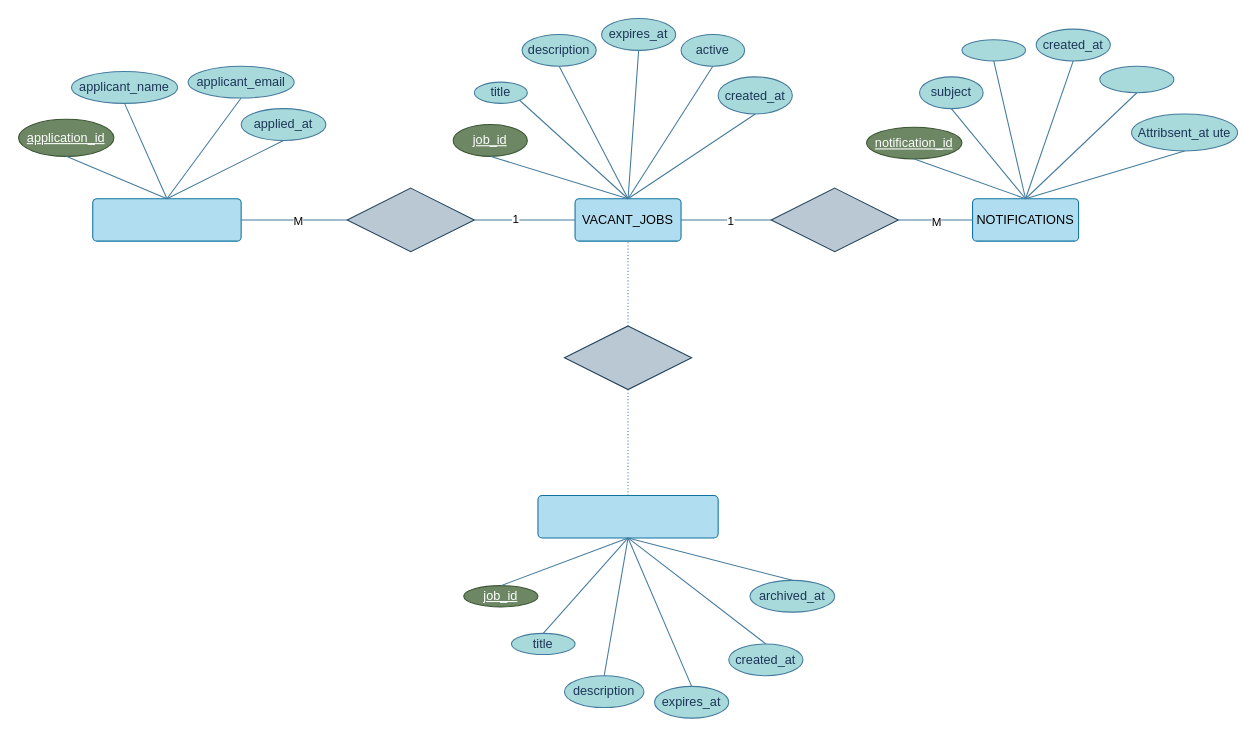
Image size: 1256x737. Some labels were removed from this diagram. The shapes that lost their labels are listed below. From the top down, each one's centre as x and y in pixels, then its label:
(x=993, y=50): body
(x=1136, y=79): status
(x=166, y=219): JOB_APPLICATIONS
(x=410, y=219): receives
(x=834, y=219): generates
(x=627, y=357): archived to
(x=627, y=516): JOBS_POSTING_ARCHIVE
